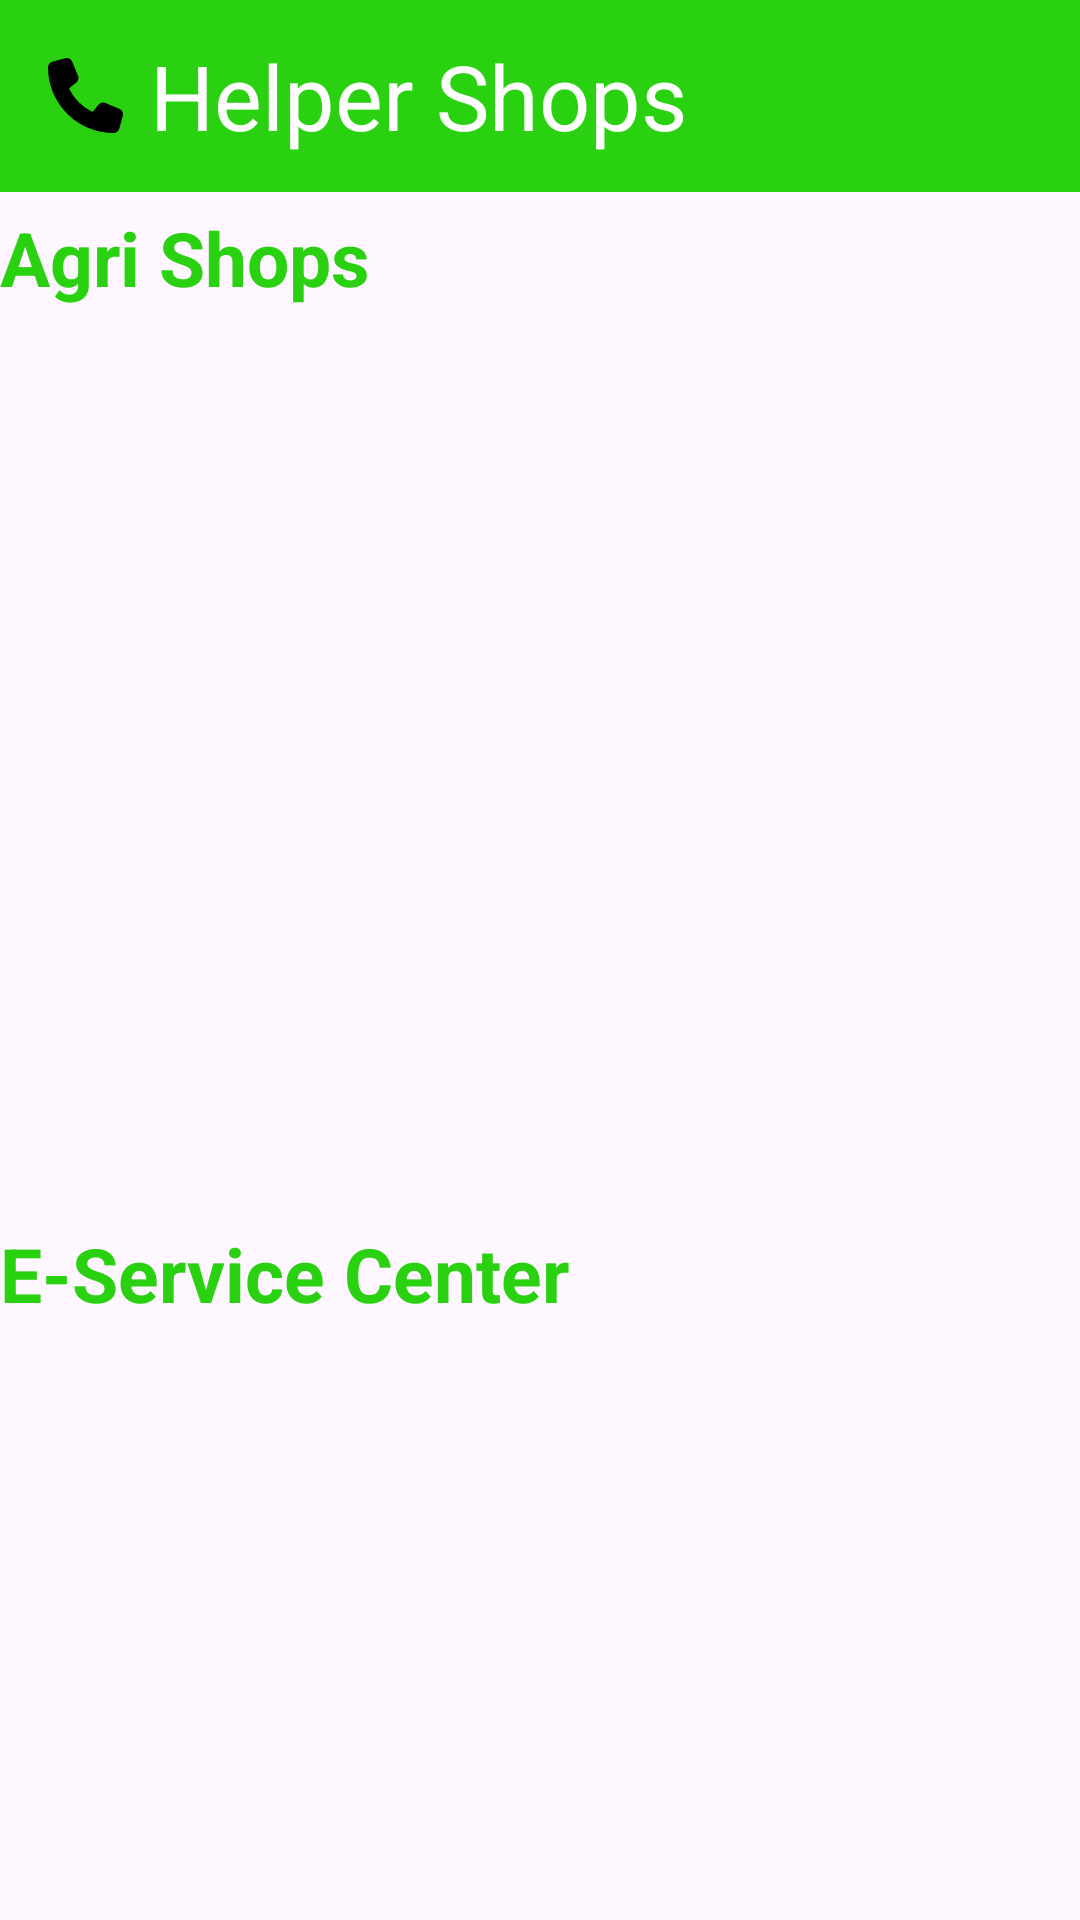

Where icons sit on this 1080px×1920px app screen, as (x1, y1, x2, y2):
phone: (48, 58, 123, 133)
